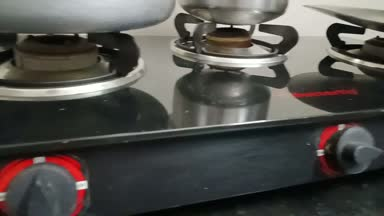flame_gas_off: (189, 20, 382, 179)
noflame_gason: (2, 33, 122, 216)
